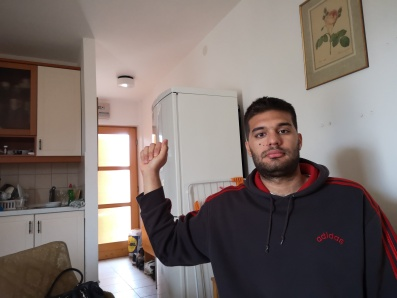A: (138, 138, 170, 174)
